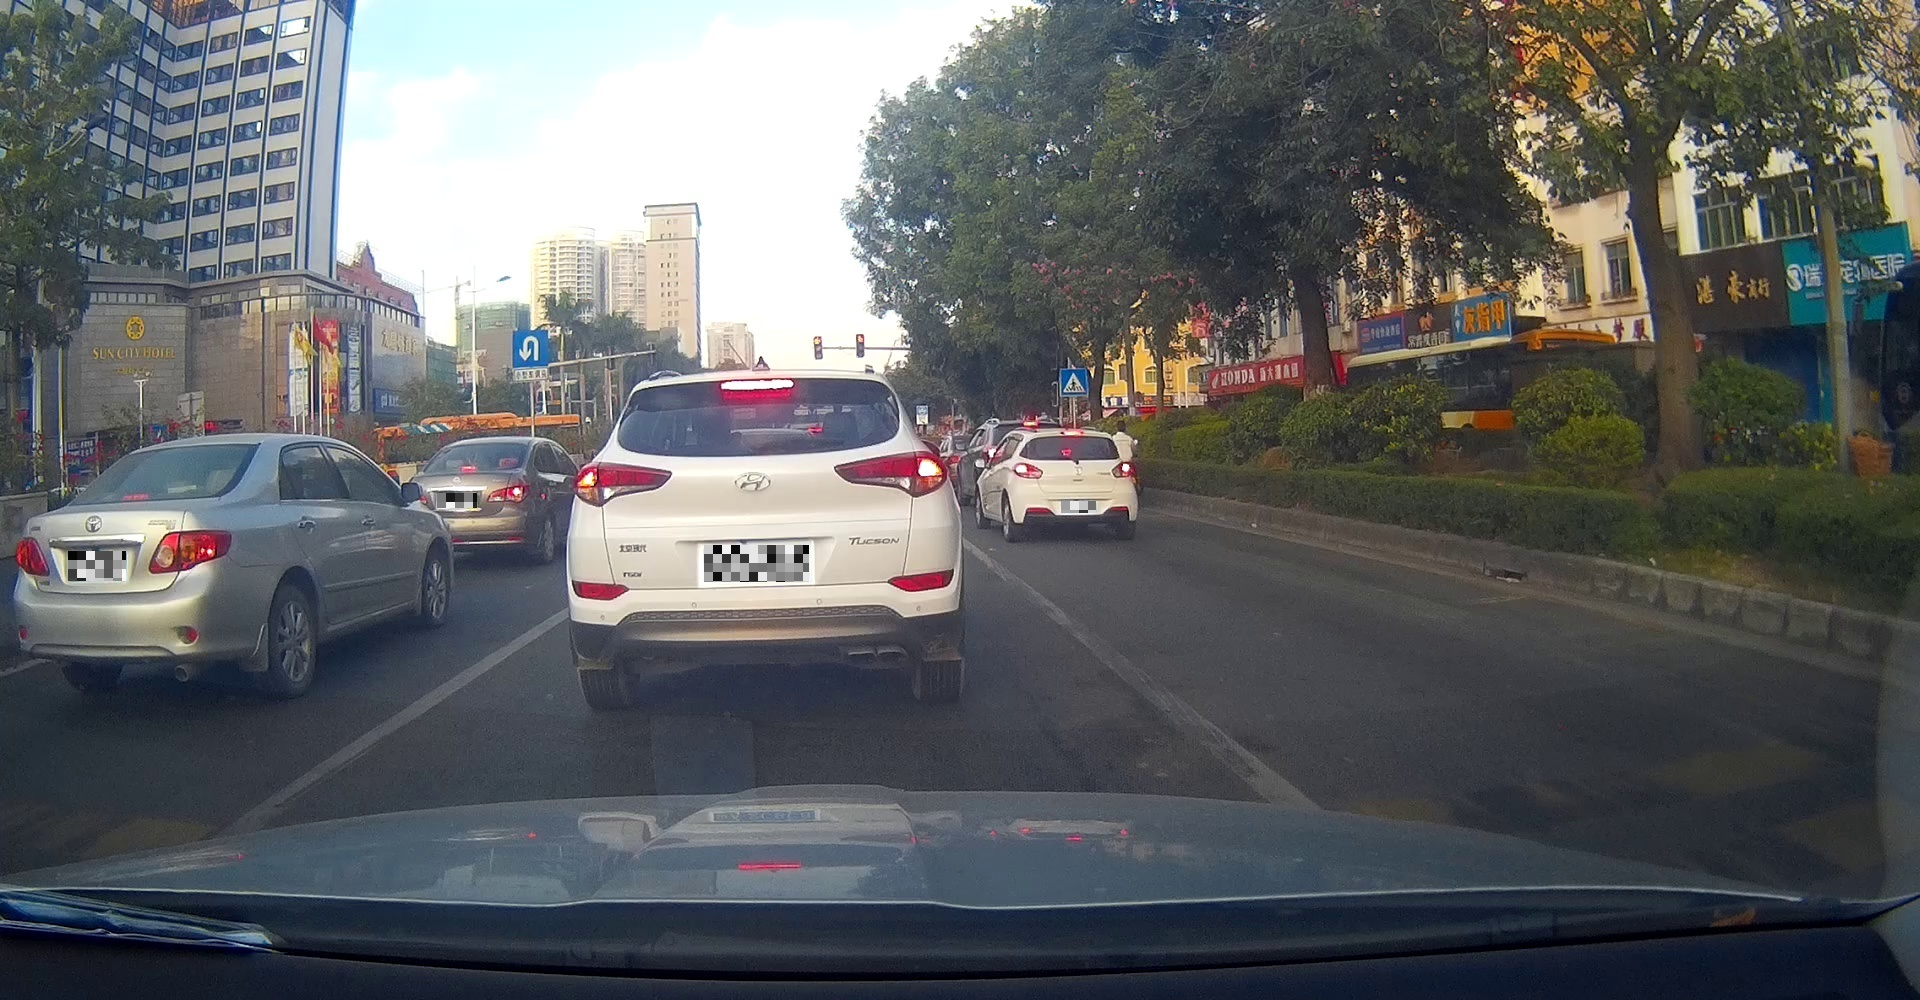L_light: (573, 461, 672, 508), (15, 536, 51, 576), (1013, 462, 1044, 480)
R_light: (833, 451, 949, 497), (149, 529, 232, 575), (1111, 461, 1131, 478)
T_light: (720, 378, 792, 391), (119, 494, 150, 503), (1063, 430, 1083, 435)
day-brake: (574, 368, 961, 708), (13, 431, 262, 697), (1012, 426, 1138, 541)
plate_1: (69, 551, 126, 581)
plate_2: (437, 492, 477, 508)
plate_3: (703, 544, 809, 582)
plate_4: (1062, 501, 1096, 513)
